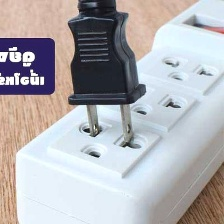three_eye_plug: (9, 0, 224, 224)
